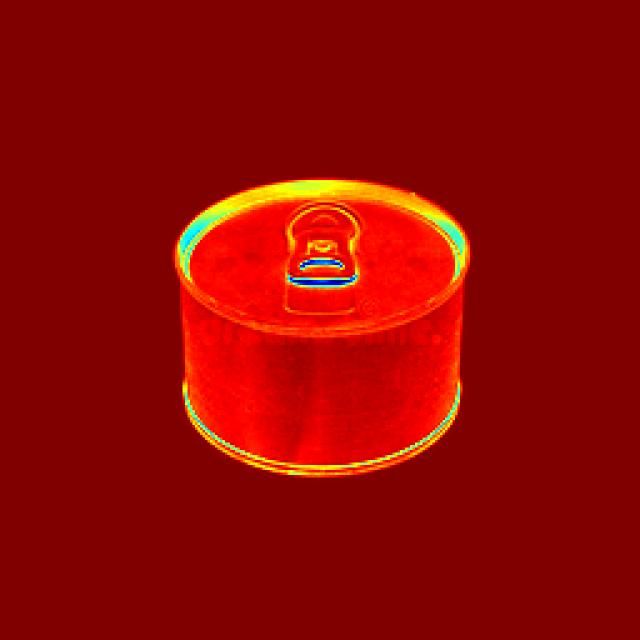Aluminium Food Cans: (175, 169, 468, 472)
